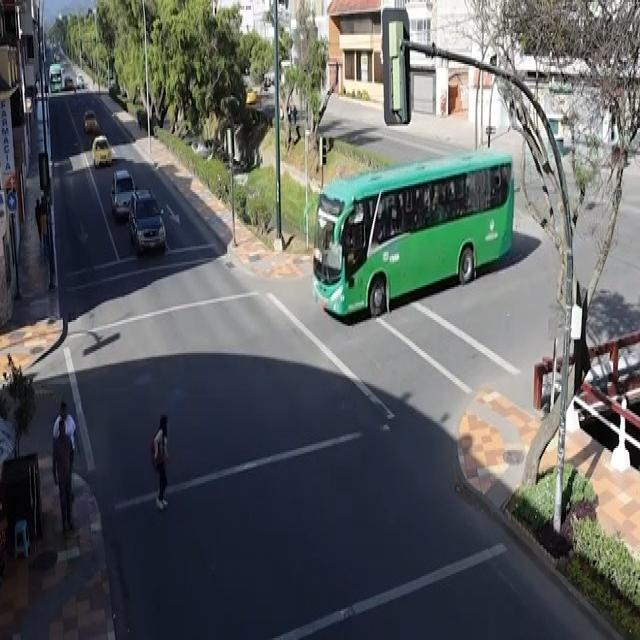BUS: (315, 154, 513, 321)
